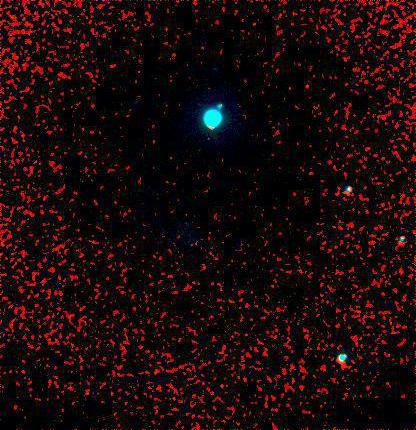star: (208, 228, 238, 258)
